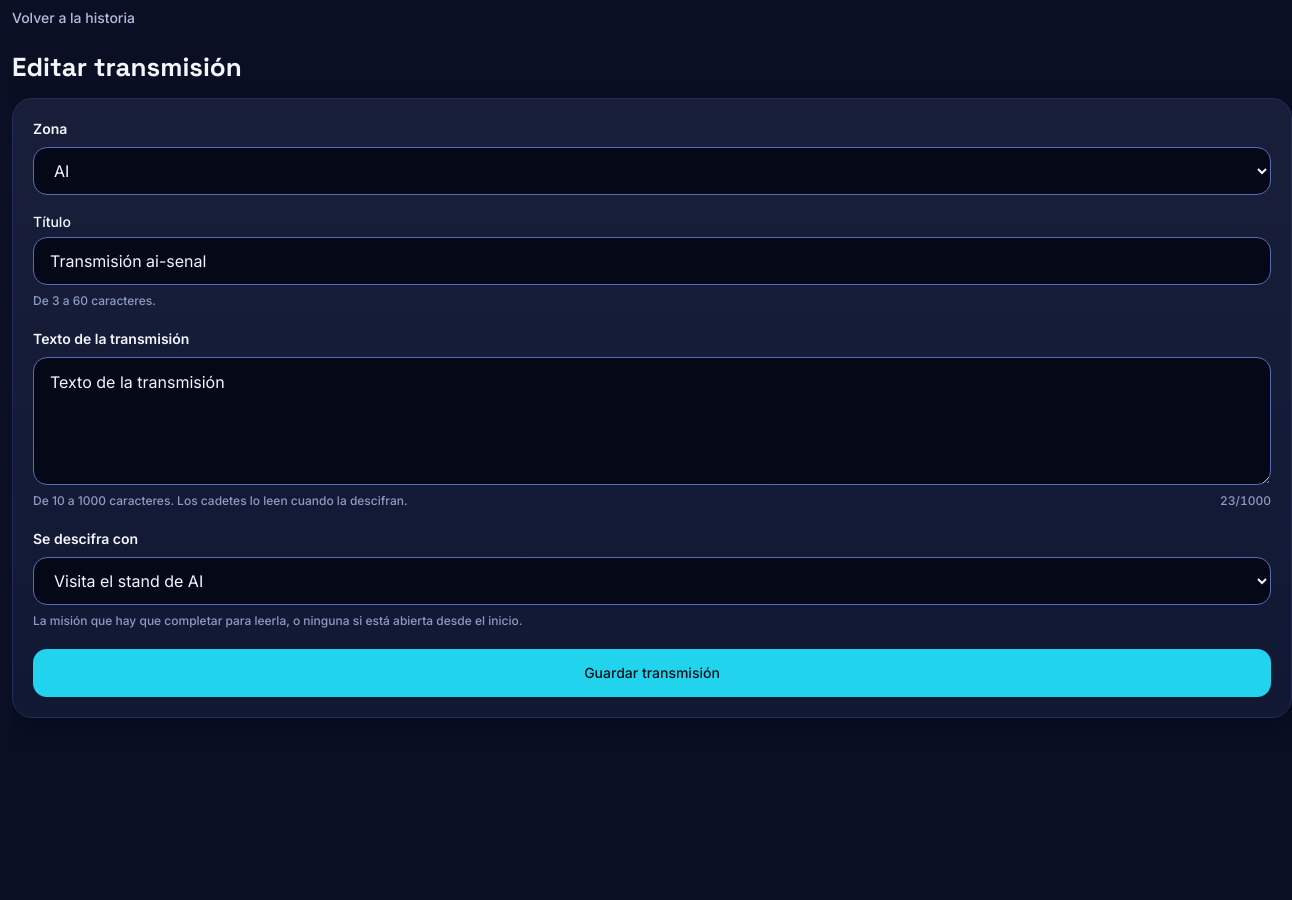
Test: CommunicationForm › edits a transmission without its id, and shows a server refusal on its field
Expected: the dropdown labelled "Se descifra con" shows "Visita el stand de AI", [33, 557, 1271, 605]
Click the button "Guardar transmisión".
click(652, 673)  # box [33, 649, 1271, 697]
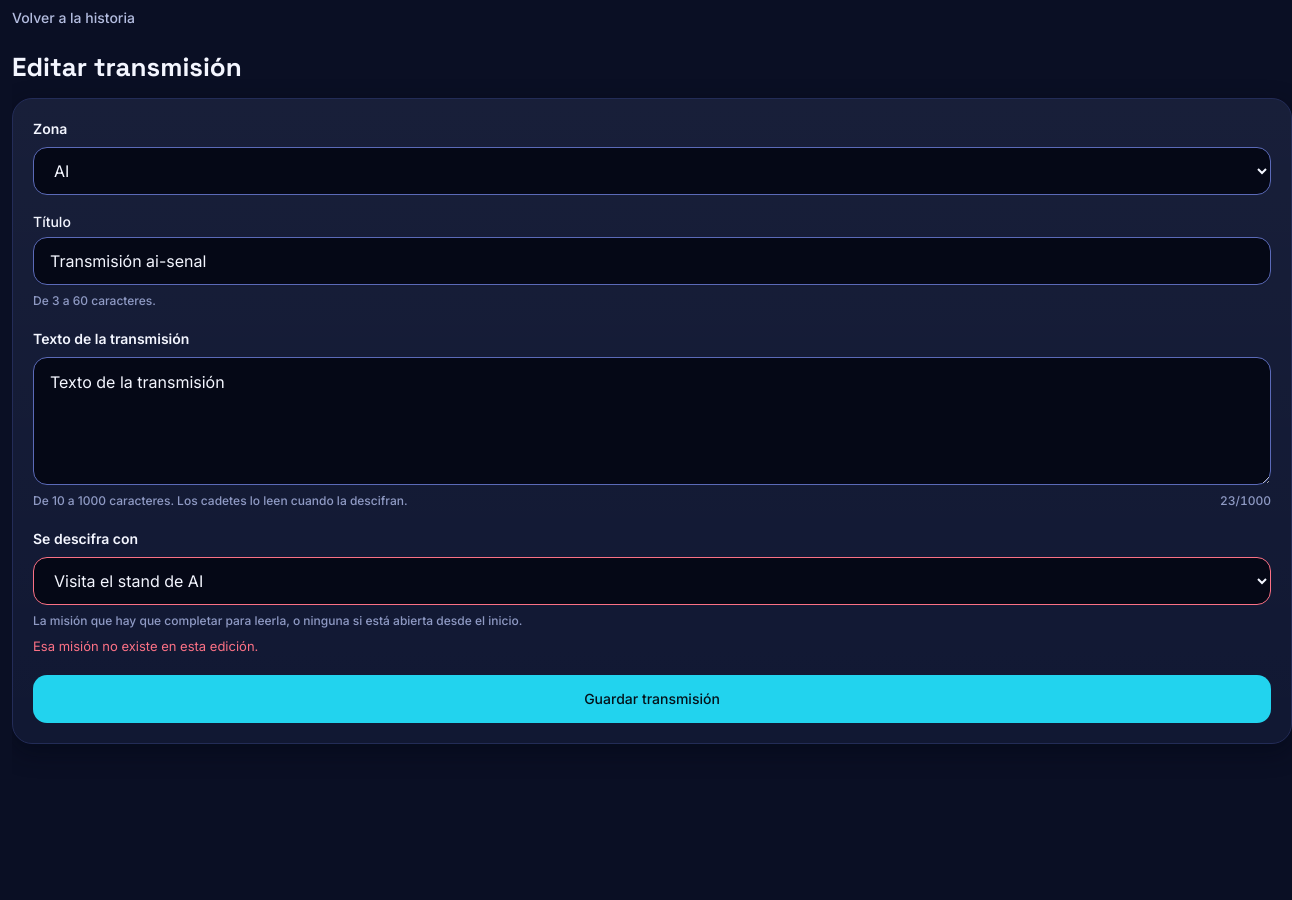
Now the text "Esa misión no existe en esta edición." is shown, box [33, 638, 258, 654]
